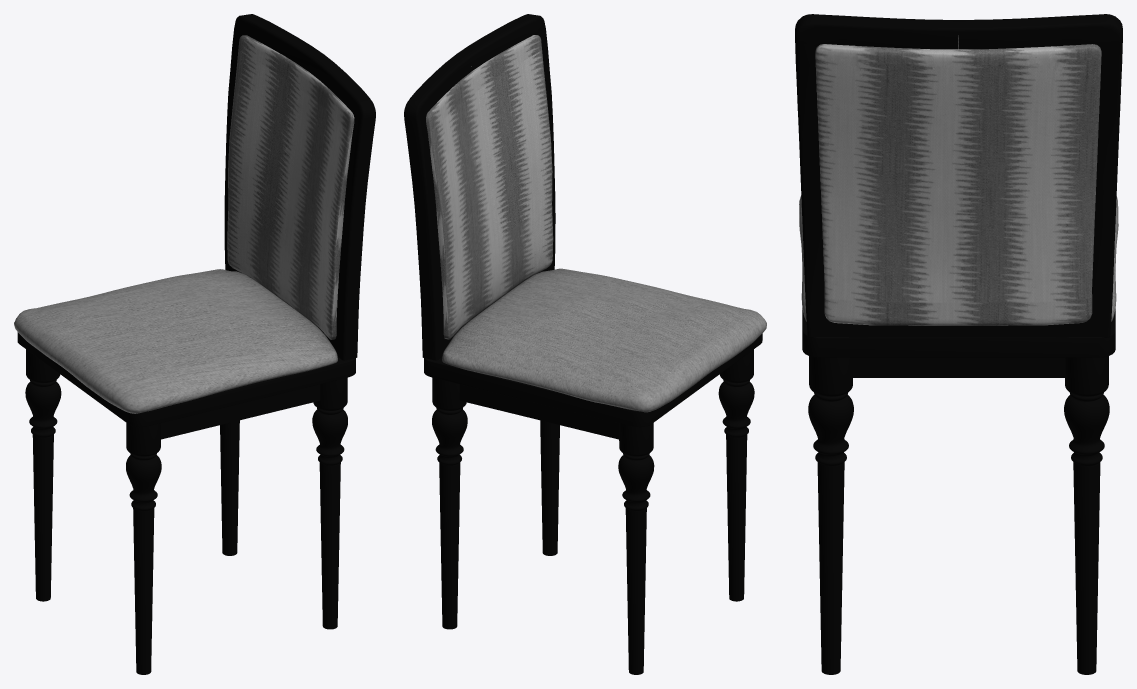
File: RosewallChair_Black.gltf
3 renders of one model, left to right at view 1: azimuth 30°, elevation 25°; view 2: azimuth 150°, elevation 25°; view 3: azimuth 270°, elevation 25°, orthographic. The views are drawn at different scales.
Parts seen in each view (by area): view 1: Cube.004, Cube.002, Glass.005, Cube.003, Cube.001, Glass.001; view 2: Cube.004, Cube.002, Glass.005, Cube.003, Cube.001, Glass.001; view 3: Cube.002, Cube.003, Glass.005, Cube.001, Glass.006, Cube.004.
Boxes of the visible parts, x1=… form: Cube.004: x1=14, y1=269, x2=337, y2=413; Cube.002: x1=227, y1=35, x2=354, y2=339; Glass.005: x1=25, y1=349, x2=347, y2=674; Cube.003: x1=224, y1=14, x2=375, y2=360; Cube.001: x1=17, y1=332, x2=355, y2=427; Glass.001: x1=161, y1=384, x2=320, y2=439; Cube.004: x1=442, y1=268, x2=766, y2=412; Cube.002: x1=426, y1=35, x2=553, y2=339; Glass.005: x1=432, y1=349, x2=754, y2=674; Cube.003: x1=404, y1=14, x2=555, y2=360; Cube.001: x1=424, y1=333, x2=762, y2=427; Glass.001: x1=459, y1=384, x2=618, y2=439; Cube.002: x1=815, y1=36, x2=1101, y2=325; Cube.003: x1=795, y1=14, x2=1122, y2=337; Glass.005: x1=808, y1=356, x2=1109, y2=674; Cube.001: x1=802, y1=308, x2=1115, y2=357; Glass.006: x1=852, y1=357, x2=1065, y2=377; Cube.004: x1=799, y1=195, x2=1118, y2=321.
Size of the model in its own units: 0.4958 by 0.9367 by 0.4151.
1 material, 1 textured.
